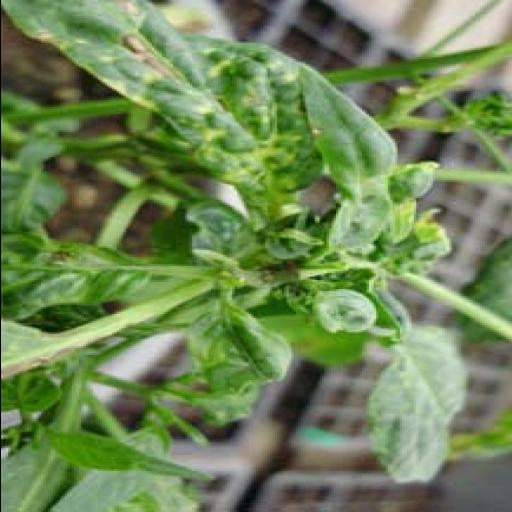disease_tomato: (22, 7, 328, 205), (174, 289, 290, 396), (0, 241, 148, 321)
